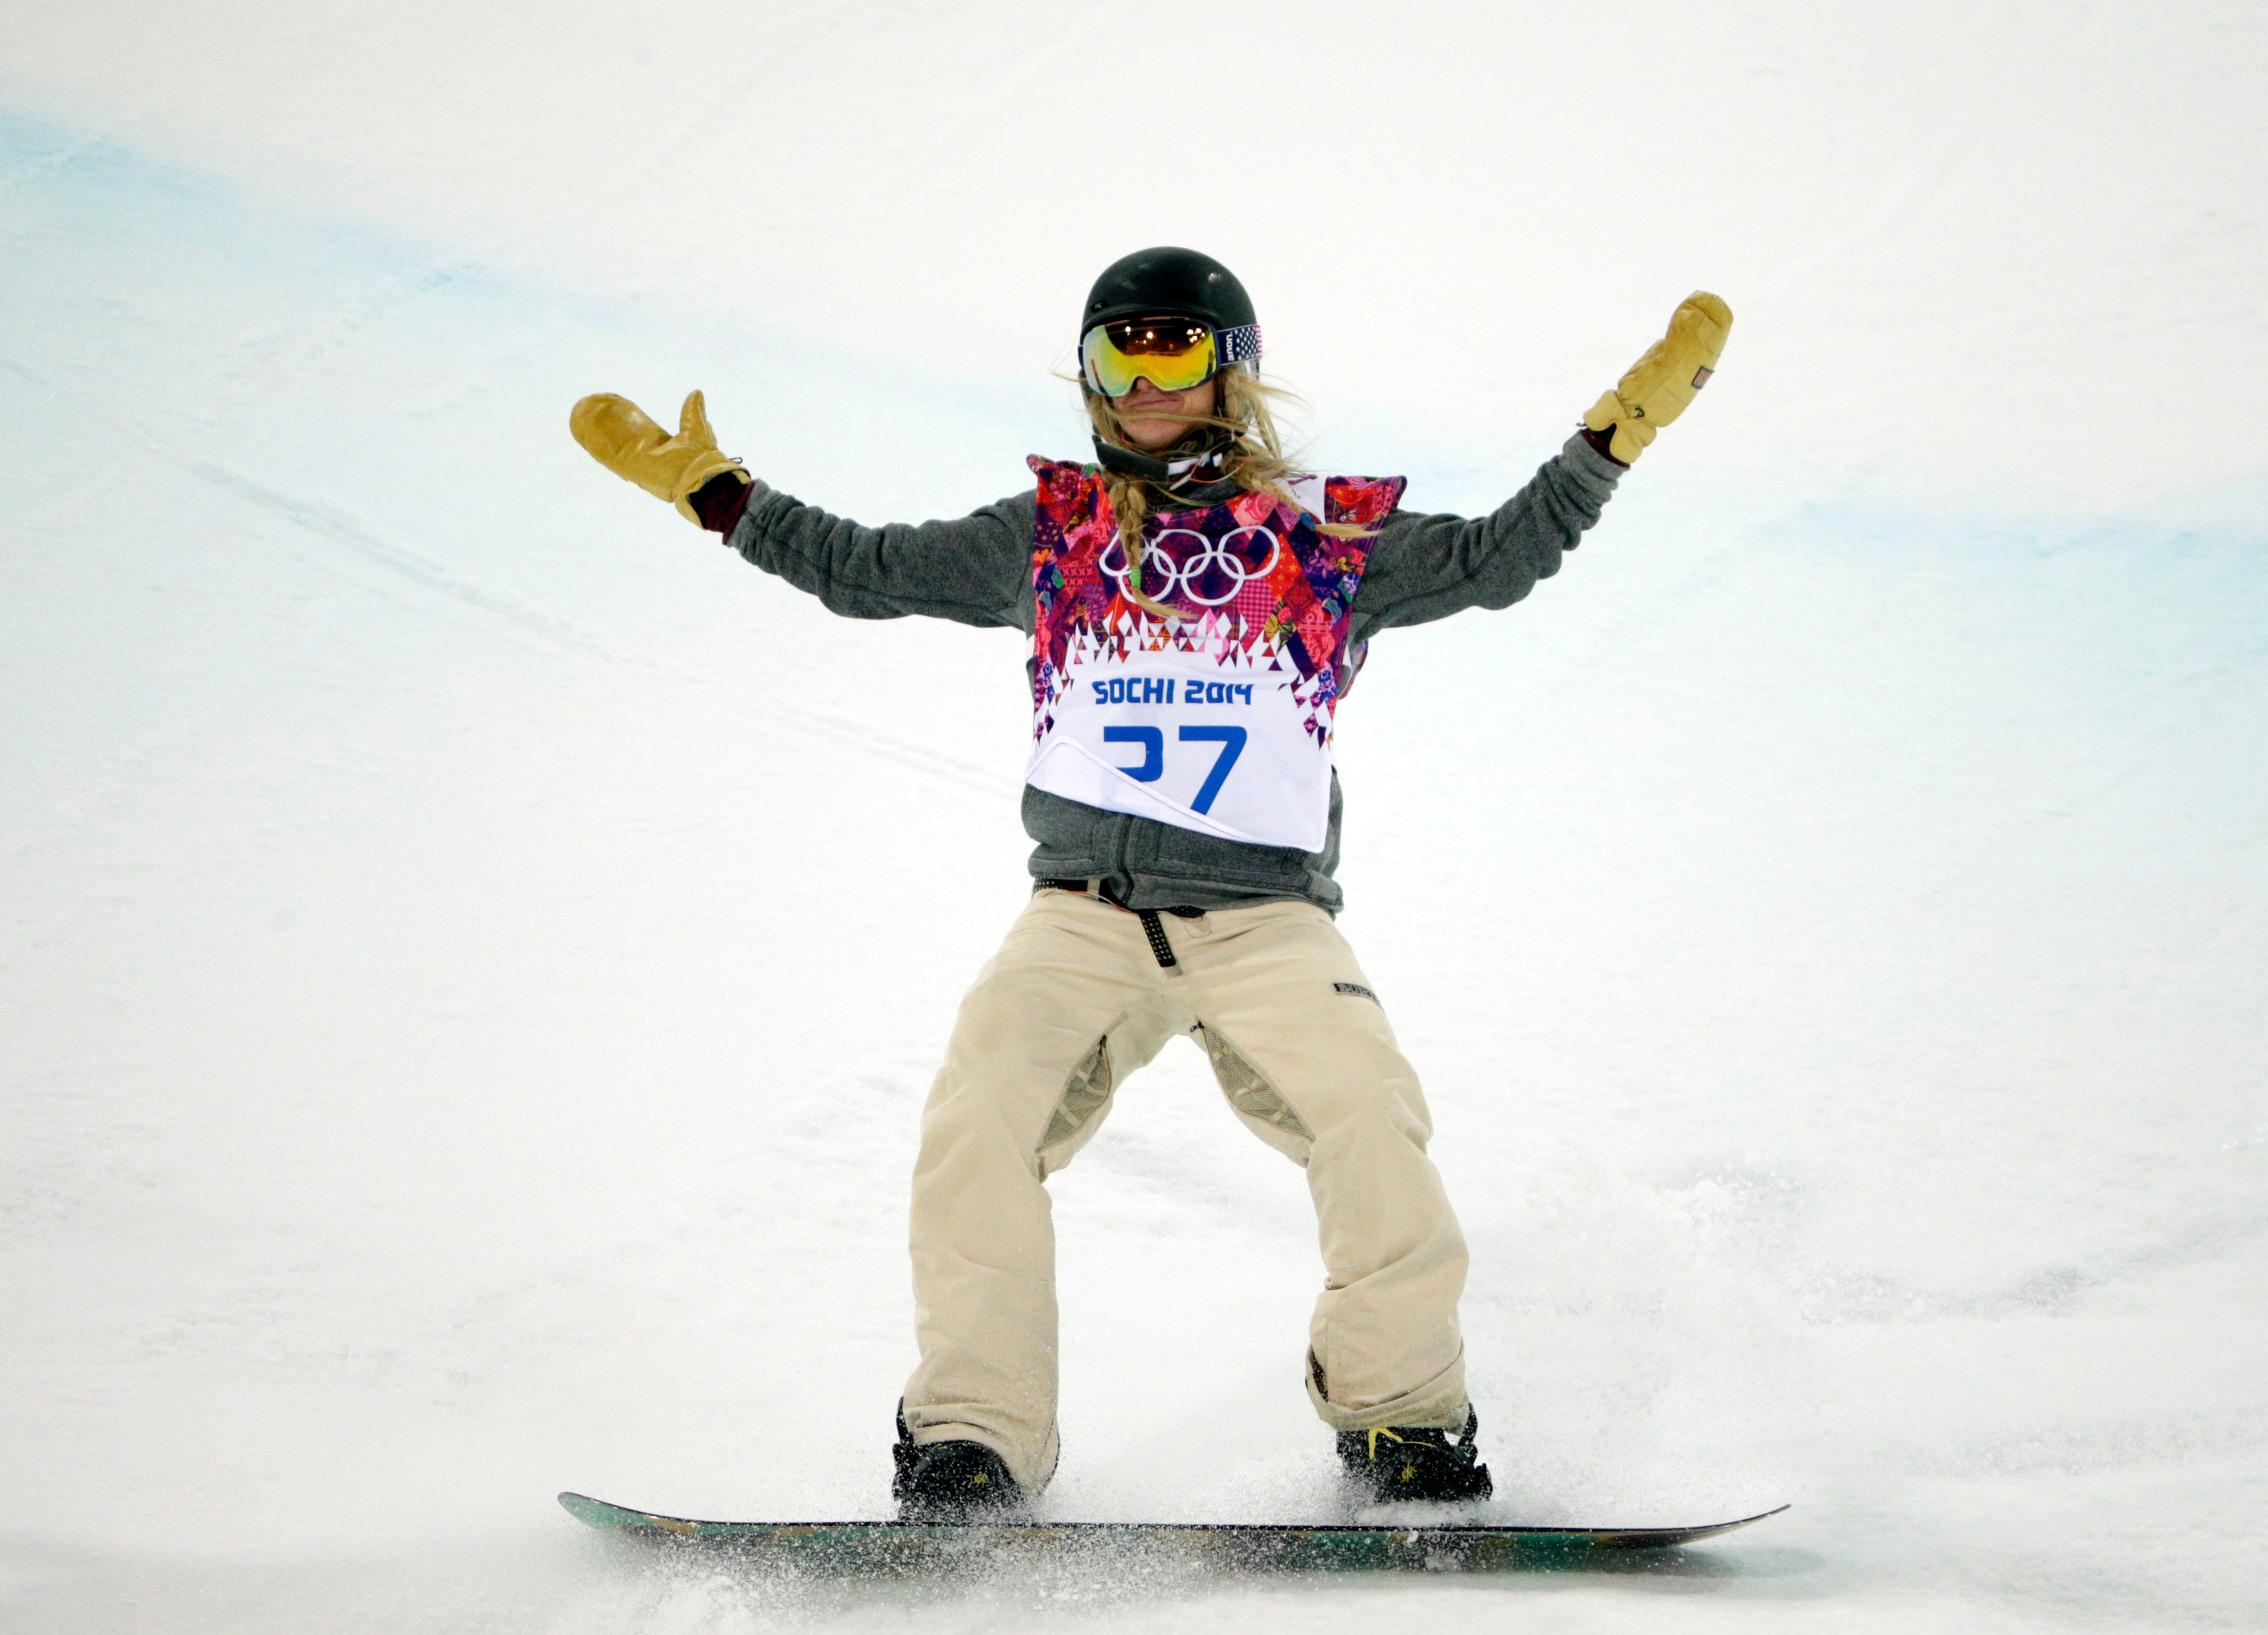snowboarder: (553, 245, 1793, 1557)
